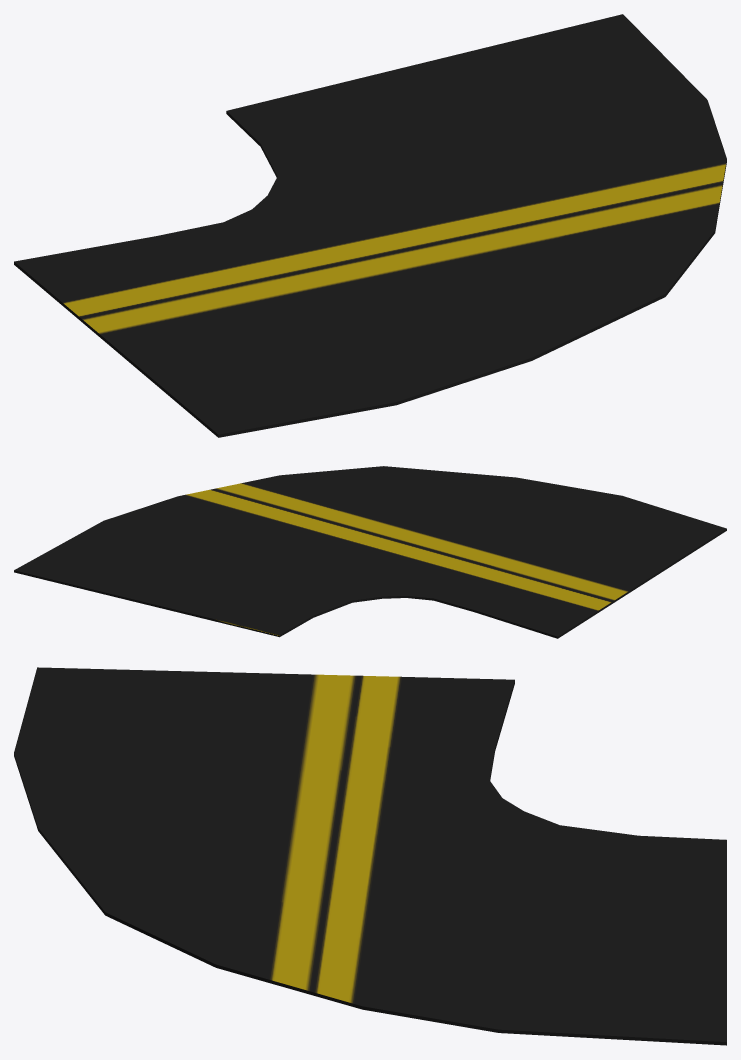
File: mainroad2.fbx
3 renders of one model, top to bottom at view 1: azimuth 30°, elevation 25°; view 2: azimuth 150°, elevation 25°; view 3: azimuth 270°, elevation 25°, orthographic. The views are drawn at different scales.
Visible parts, largest first — view 1: pCube64; view 2: pCube64; view 3: pCube64.
Part boxes in pixels (x1,y1,x2,y2): pCube64: (14,14,726,437); pCube64: (14,466,726,638); pCube64: (14,667,726,1045).
Bounding box in the file's own units: 19.66 × 0.0815 × 15.81.
1 material, 1 textured.
